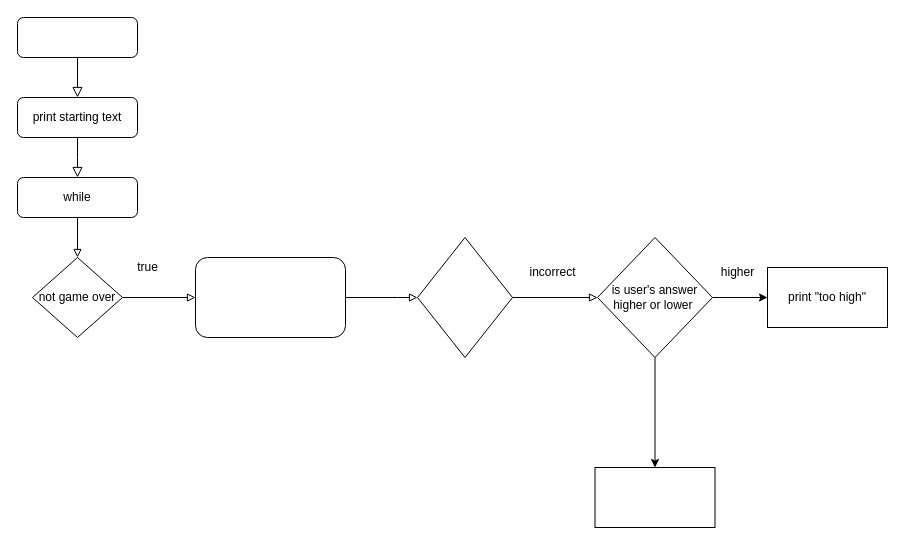
Image size: 905x545. Some labels were removed from this diagram. Here are the shapes that lost their labels. From the top down, the centre of each, then its label:
At point (77, 37): "print logo".
At point (270, 297): "allow the player to submit a guess for a number between 1 and 100".
At point (464, 297): "check user's answer".
